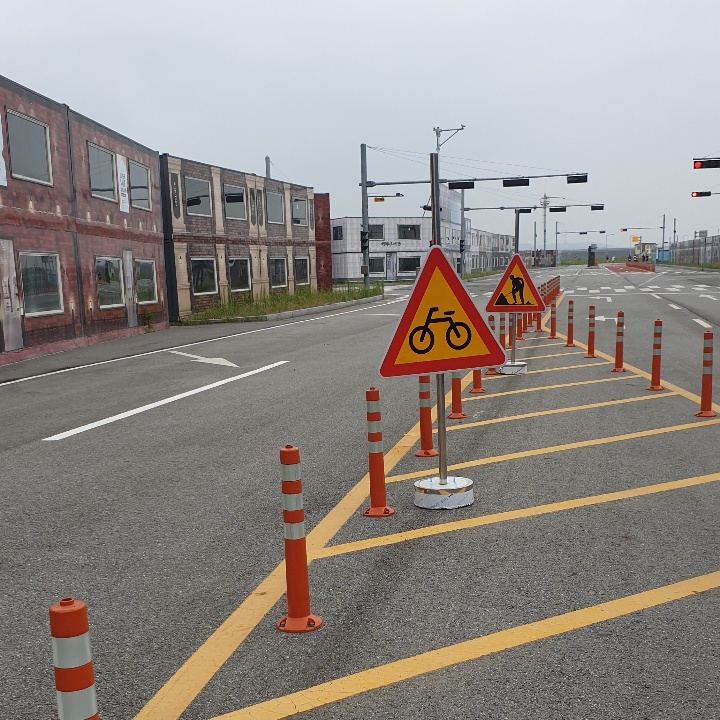bicycle: (379, 246, 506, 376)
const: (491, 268, 538, 308)
